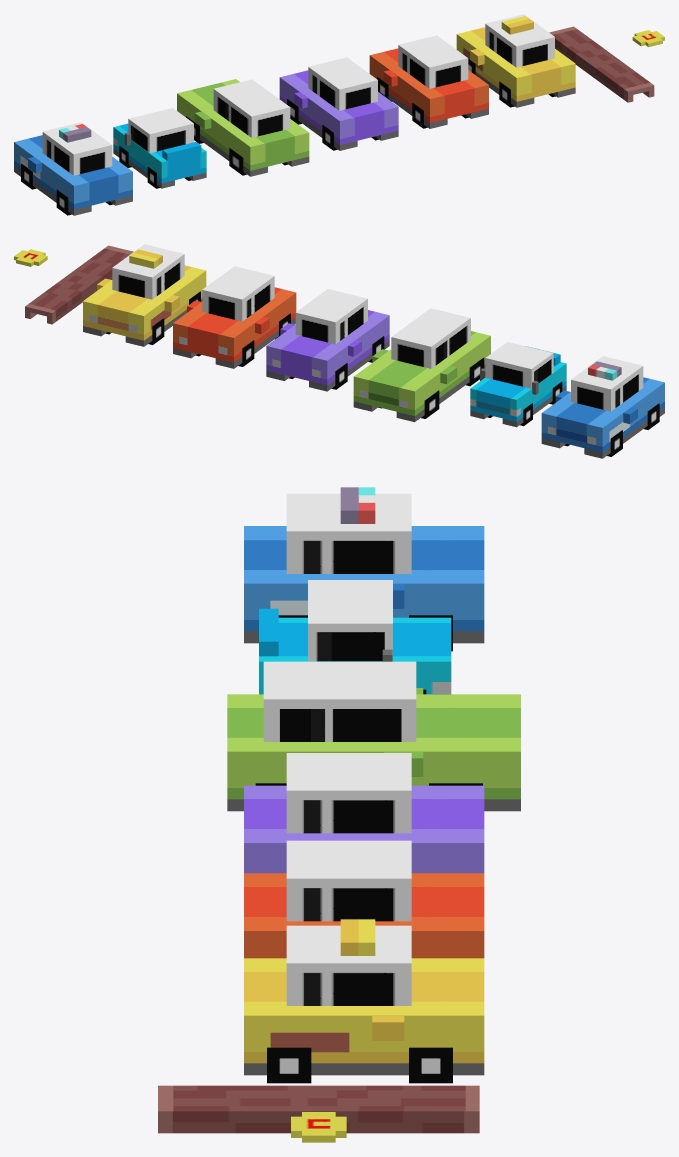
The model's file is Cars + Log + Coin.fbx.
The picture shows the model from 3 angles, top to bottom: view 1: azimuth 30°, elevation 25°; view 2: azimuth 150°, elevation 25°; view 3: azimuth 270°, elevation 25°; orthographic projection. The views are drawn at different scales.
Visible parts, largest first — view 1: midden (×6), dakje (×6), Log, spoiler, taxilampje, police_lampje, Coin; view 2: midden (×6), dakje (×6), Log, police_lampje, taxilampje, Coin; view 3: midden (×6), dakje (×6), Log, wiel4, wiel3, Coin, taxilampje, police_lampje, spoiler.
Boxes of the visible parts, x1,y1,x2,y2 form: midden (×6): (14, 27, 575, 215); dakje (×6): (42, 14, 554, 175); Log: (549, 26, 654, 102); spoiler: (162, 142, 201, 160); taxilampje: (501, 16, 533, 34); police_lampje: (59, 124, 91, 142); Coin: (632, 30, 664, 47); midden (×6): (83, 265, 664, 458); dakje (×6): (112, 244, 643, 411); Log: (25, 245, 133, 324); police_lampje: (588, 361, 621, 380); taxilampje: (129, 249, 162, 268); Coin: (14, 249, 47, 266); midden (×6): (227, 526, 520, 1075); dakje (×6): (263, 493, 416, 1005); Log: (158, 1085, 479, 1133); wiel4: (267, 1047, 311, 1083); wiel3: (409, 1047, 452, 1083); Coin: (291, 1112, 346, 1142); taxilampje: (340, 919, 375, 955); police_lampje: (340, 487, 375, 523); spoiler: (259, 608, 278, 656).
Size of the model in its own units: 17.29 by 1.66 by 4.45.
Materials: 22 (22 with a texture image).
